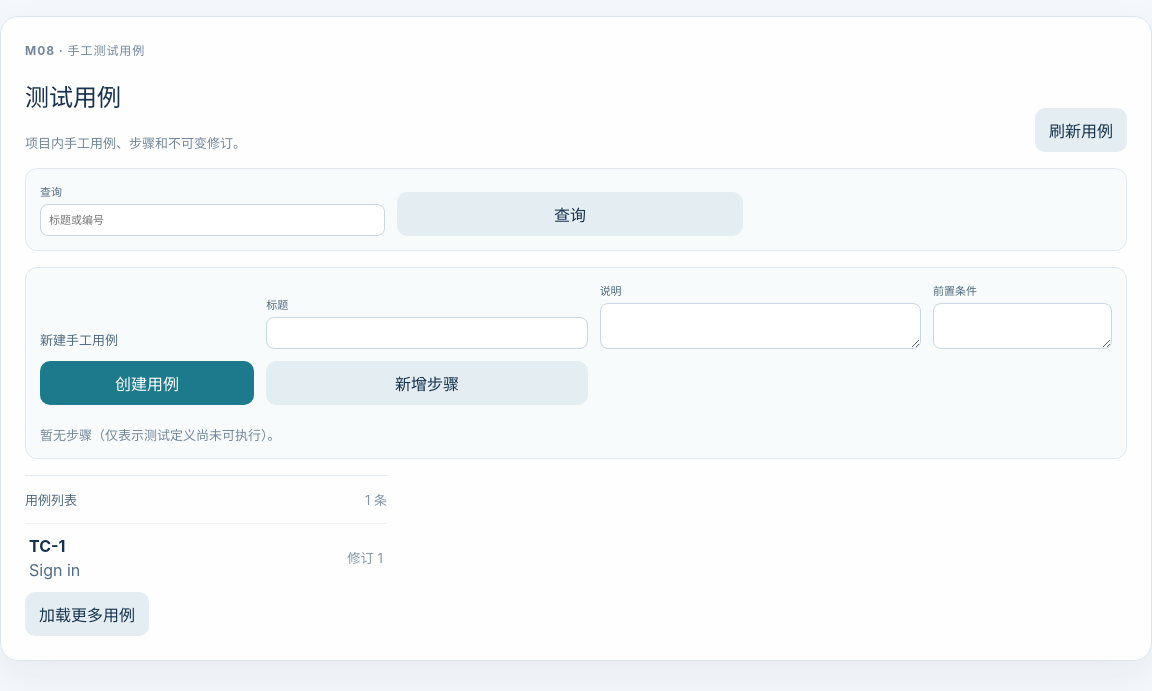
Scenario: TestCasesPanel › ignores delayed load-more success after a newer detail request
Check: the text "TC-1" is shown, box [29,536,65,556]
Click the button "加载更多用例" at [87, 614], box [25,592,149,636]
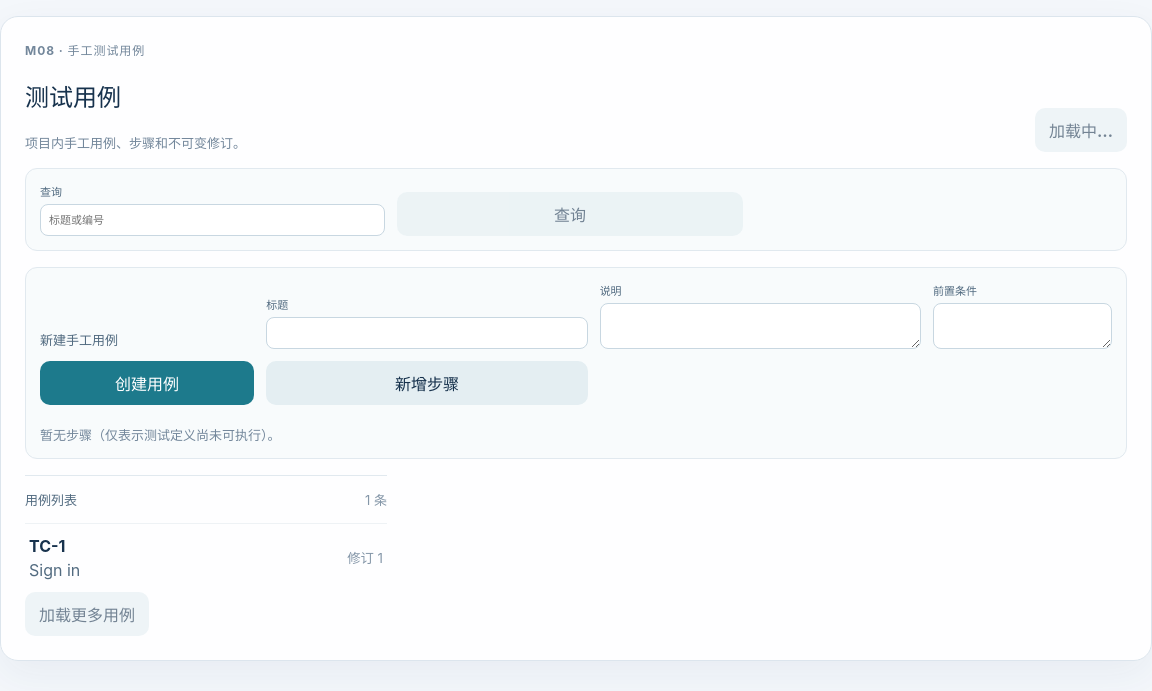
Click the button "TC-1 Sign in 修订 1" at [47, 546], box [25,523,387,592]
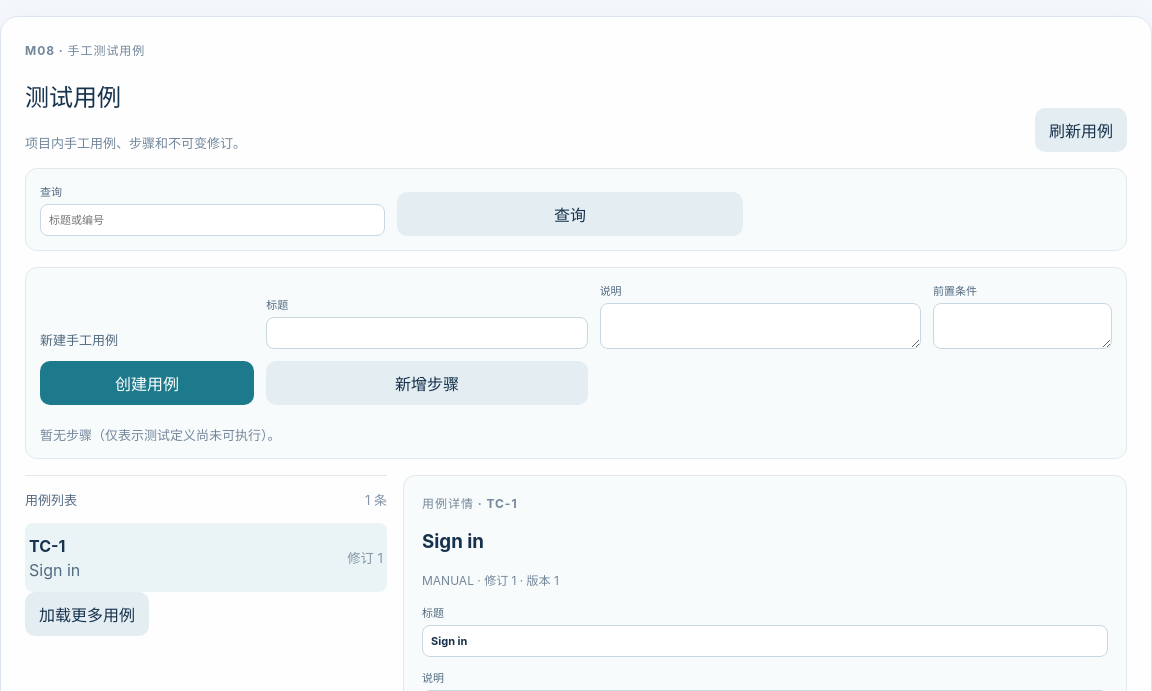
Check: the field showing "Sign in" below "MANUAL · 修订" is shown, box [422,625,1108,657]
Check: the button "刷新用例" is enabled, box [1035,108,1127,152]
